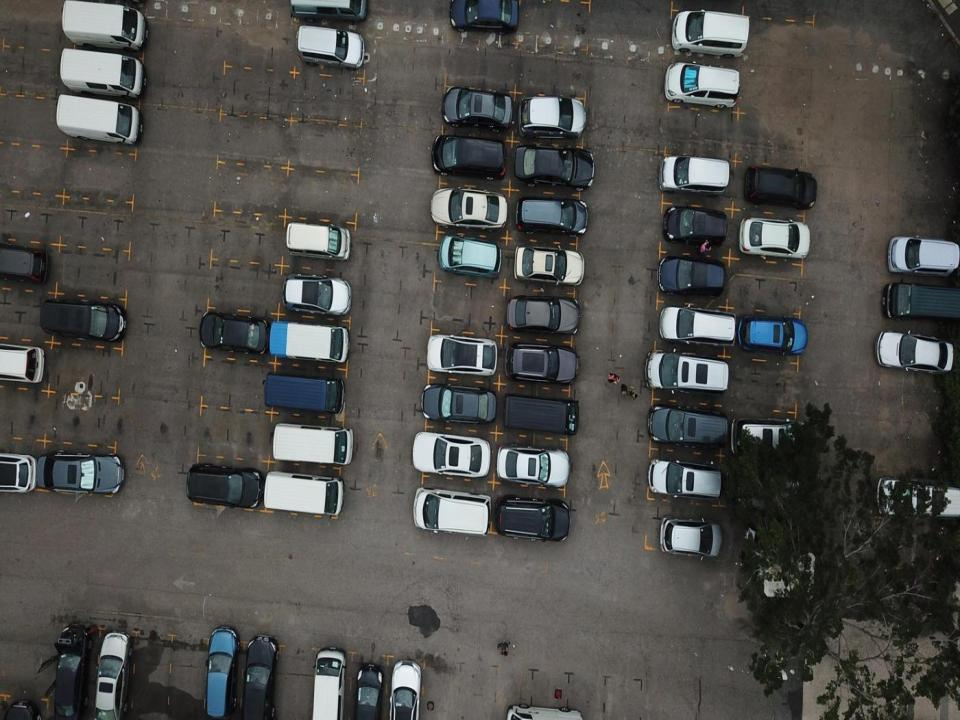car: (38, 623, 97, 716), (37, 290, 126, 344), (873, 323, 954, 380), (878, 470, 960, 526), (644, 346, 732, 398), (36, 449, 124, 500), (647, 398, 729, 450), (411, 429, 493, 479), (665, 57, 742, 110), (494, 494, 574, 545), (730, 415, 805, 469), (672, 5, 751, 56), (659, 303, 738, 353), (430, 131, 508, 181), (514, 143, 595, 191), (649, 450, 723, 502), (737, 212, 811, 264), (737, 304, 808, 357), (431, 183, 510, 230), (202, 624, 241, 719), (186, 461, 260, 511), (740, 162, 817, 209), (497, 441, 571, 489), (94, 628, 134, 716), (237, 635, 281, 715), (425, 331, 499, 378), (511, 240, 585, 287), (293, 22, 365, 70), (505, 340, 580, 386), (885, 231, 960, 276), (197, 310, 269, 356), (516, 91, 588, 137), (443, 82, 512, 130), (657, 149, 730, 194), (502, 294, 580, 336), (282, 271, 354, 316), (420, 382, 496, 424), (517, 196, 588, 240), (437, 228, 502, 276), (657, 511, 723, 558), (662, 204, 730, 248), (658, 250, 727, 290), (311, 647, 349, 719), (447, 0, 521, 33), (0, 245, 51, 290), (0, 341, 46, 388), (387, 658, 422, 719), (390, 658, 422, 719), (354, 662, 387, 719), (0, 451, 38, 498)
van: (54, 90, 139, 152), (55, 45, 142, 100), (882, 273, 960, 333), (270, 415, 353, 469), (262, 366, 346, 418), (414, 484, 490, 539), (60, 0, 145, 49), (269, 315, 352, 365), (261, 469, 344, 517), (501, 392, 582, 435), (285, 218, 350, 262)
